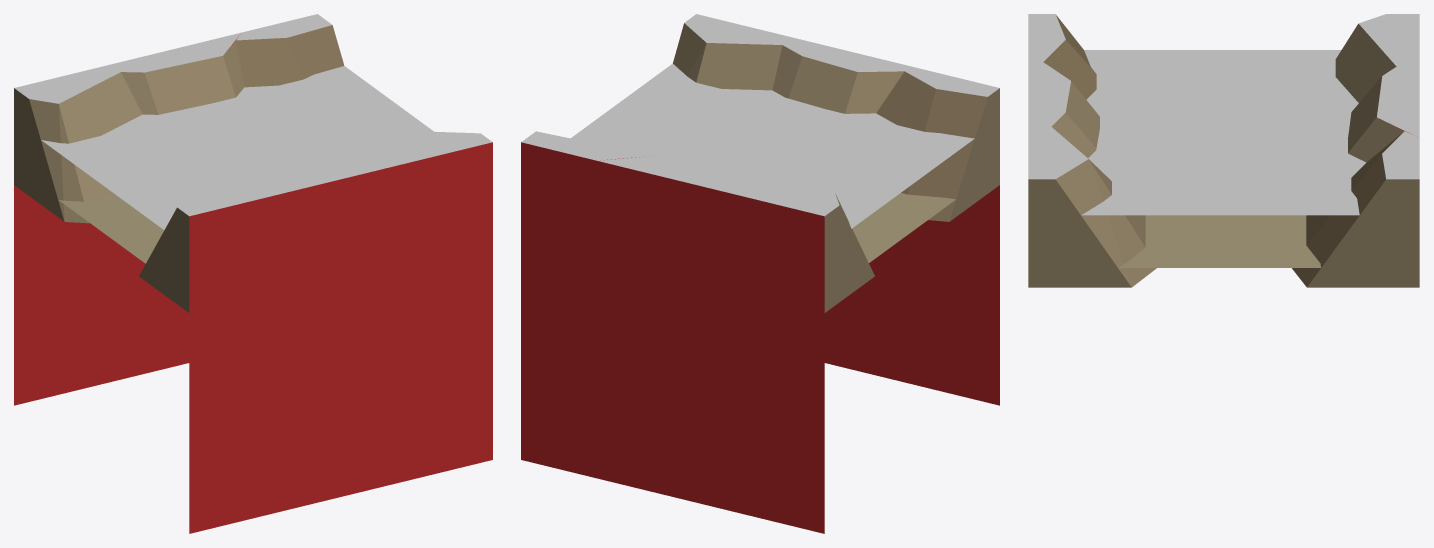
File: Model_Tile_River_2WTB.fbx
3 views of the same model, side by side, from view 1: azimuth 30°, elevation 25°; view 2: azimuth 150°, elevation 25°; view 3: azimuth 270°, elevation 25° (orthographic). The views are drawn at different scales.
Parts seen in each view (by area): view 1: Model_Frost_Rivers5; view 2: Model_Frost_Rivers5; view 3: Model_Frost_Rivers5.
Part boxes in pixels (x1,y1,x2,y2): Model_Frost_Rivers5: (14, 14, 492, 533); Model_Frost_Rivers5: (521, 14, 999, 533); Model_Frost_Rivers5: (1028, 14, 1419, 287).
Bounding box in the file's own units: 200 × 200 × 200.
